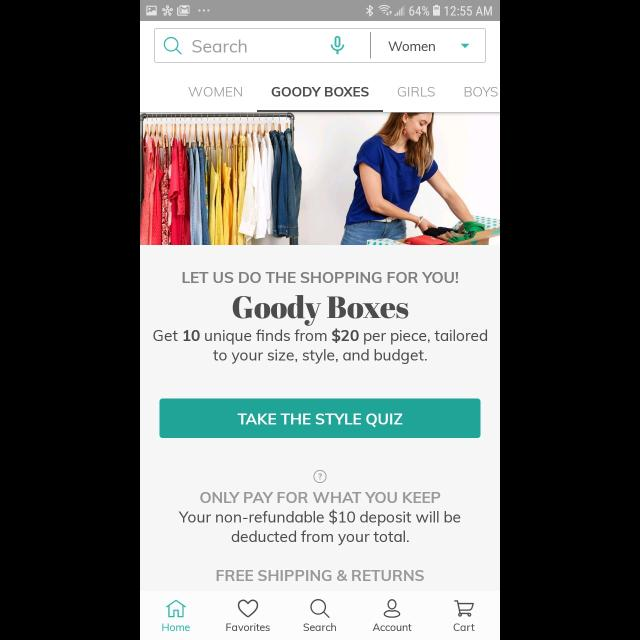icon: (310, 598, 330, 618), (166, 599, 186, 617), (238, 599, 258, 617), (454, 599, 474, 617), (384, 598, 401, 618), (164, 37, 182, 55), (332, 36, 344, 56), (314, 471, 326, 484), (460, 44, 470, 48)
image: (140, 112, 500, 245)
input: (154, 28, 486, 64)
text: (153, 328, 487, 364), (179, 510, 461, 546), (233, 296, 409, 326), (182, 272, 458, 284), (200, 492, 440, 503), (216, 570, 424, 582), (272, 87, 368, 97), (193, 40, 247, 52), (189, 87, 243, 97), (389, 42, 435, 52), (398, 87, 434, 97), (226, 623, 270, 631), (464, 87, 498, 97), (304, 622, 336, 632), (372, 623, 412, 631), (162, 623, 190, 631), (453, 621, 475, 631)
textbutton: (160, 398, 480, 438)
uppertaskbar: (140, 1, 500, 22)
